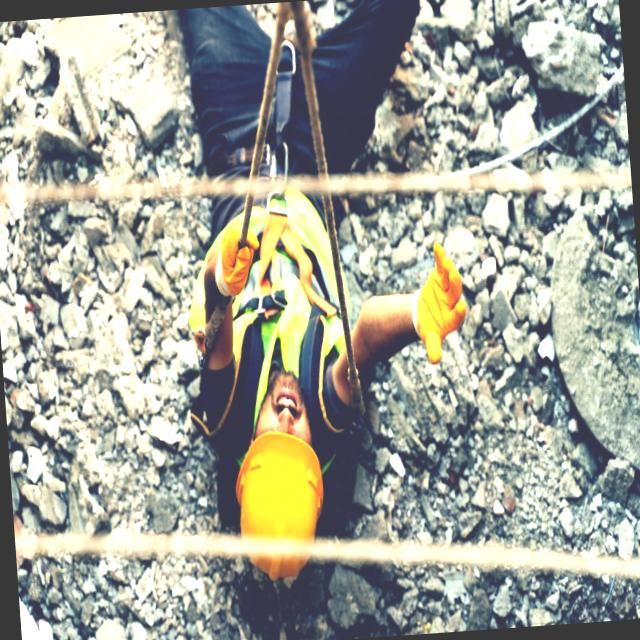helmet: (224, 424, 330, 583)
vest: (186, 180, 364, 436)
